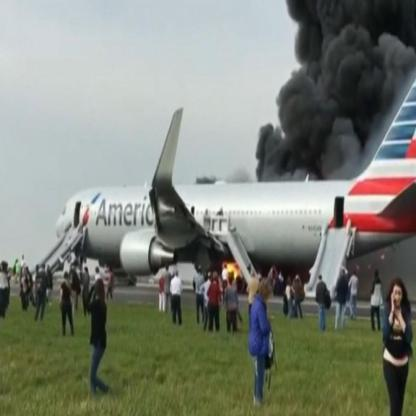CIV_Plane: (52, 69, 415, 306)
